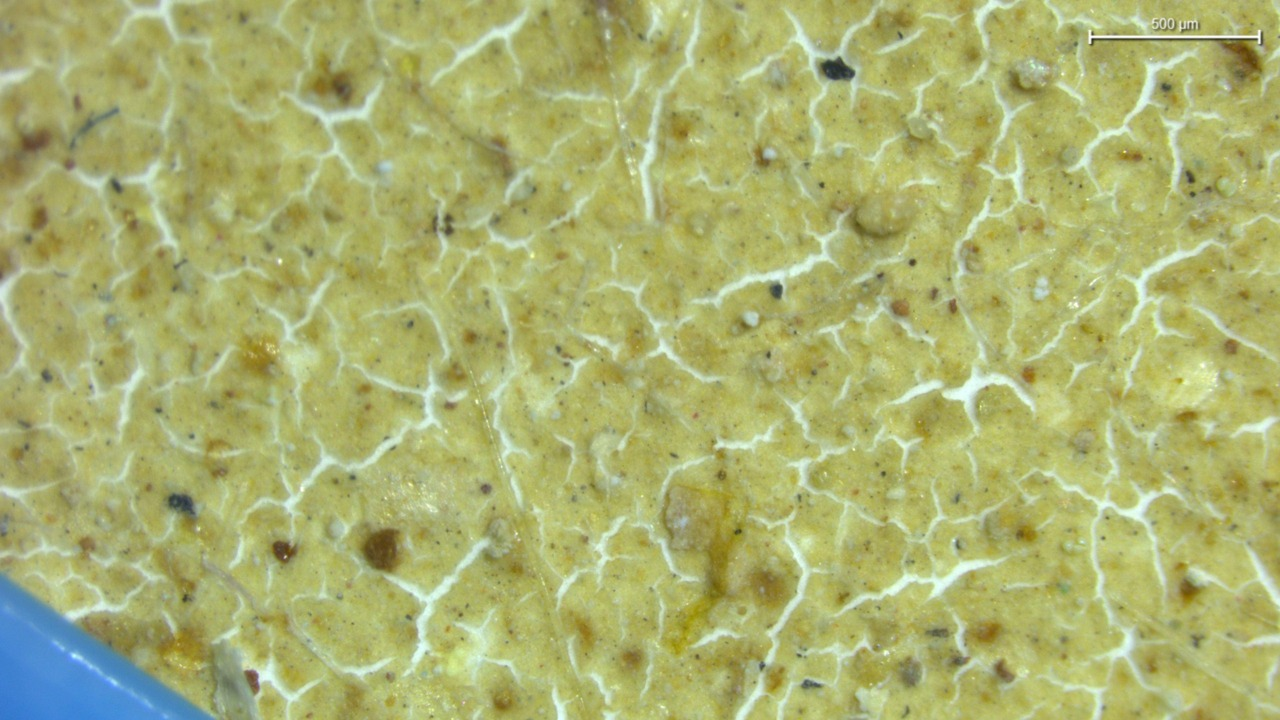microplastic_fragment: (211, 640, 259, 720), (854, 191, 924, 236), (1010, 57, 1053, 90)
